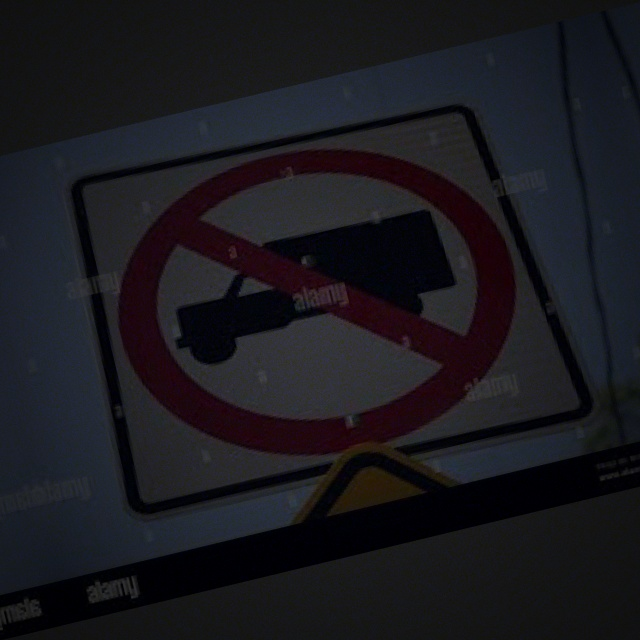Truck_Prohibited: (90, 99, 558, 491)
